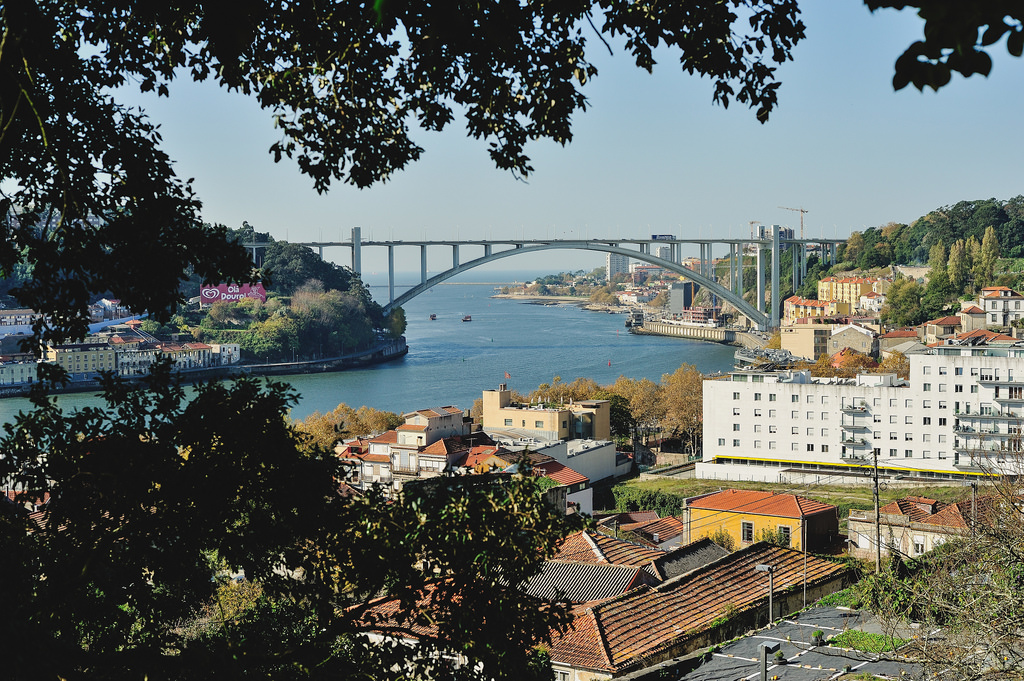arrabida: (281, 223, 846, 334)
